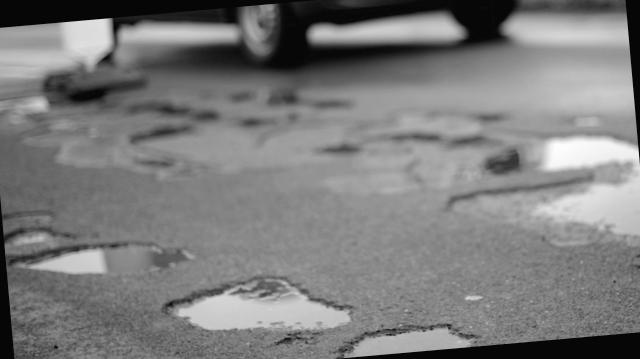Pothole: (163, 256, 362, 346), (12, 223, 200, 301), (328, 318, 484, 358), (4, 210, 64, 264)
